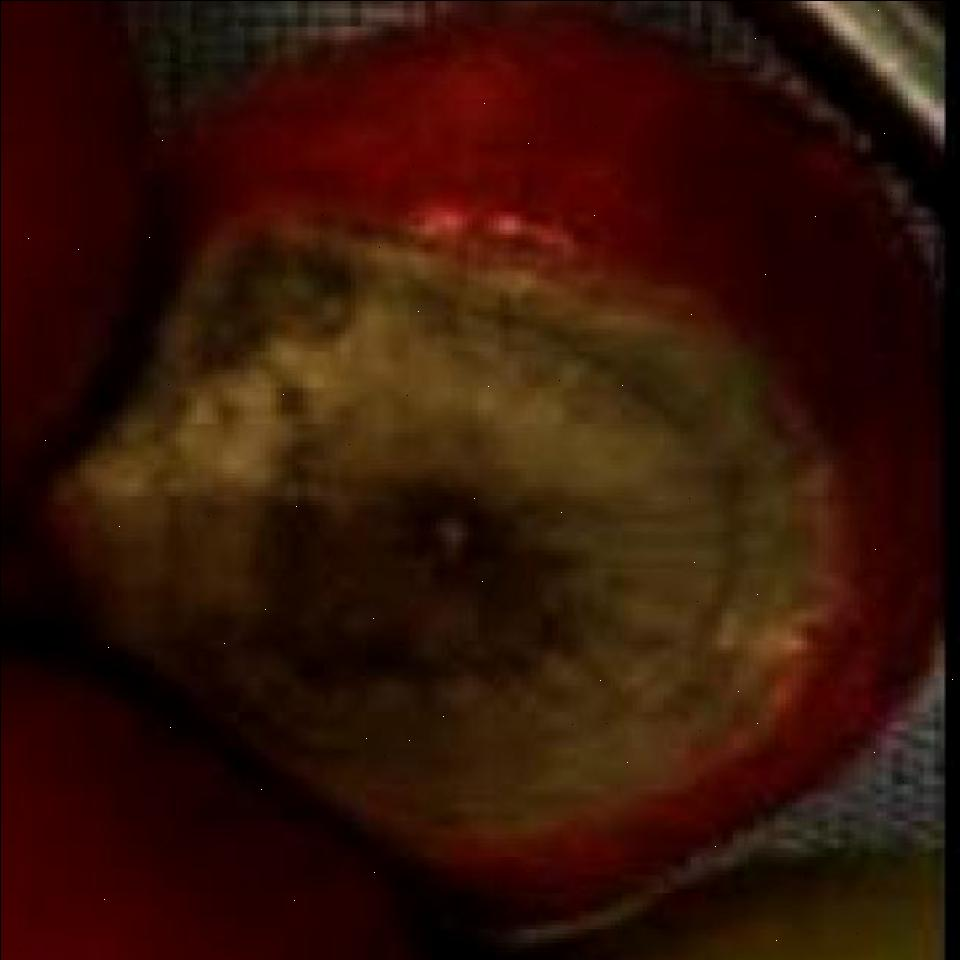Blossom_end_rot: (36, 202, 833, 848)
